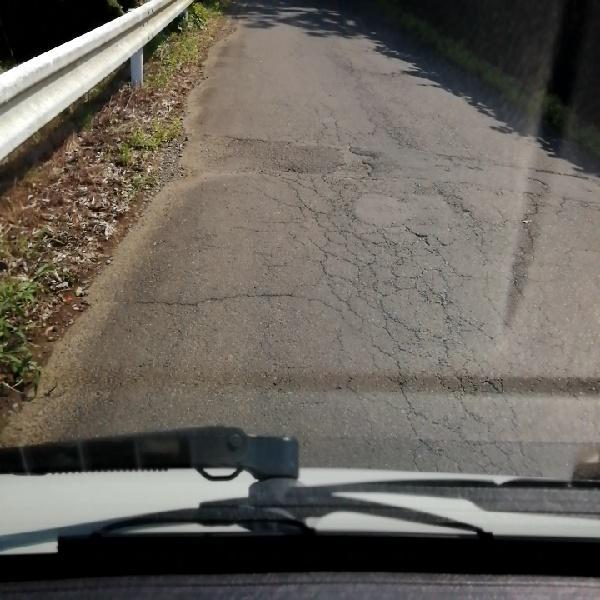D10: (82, 277, 292, 307)
D20: (181, 147, 563, 491)
